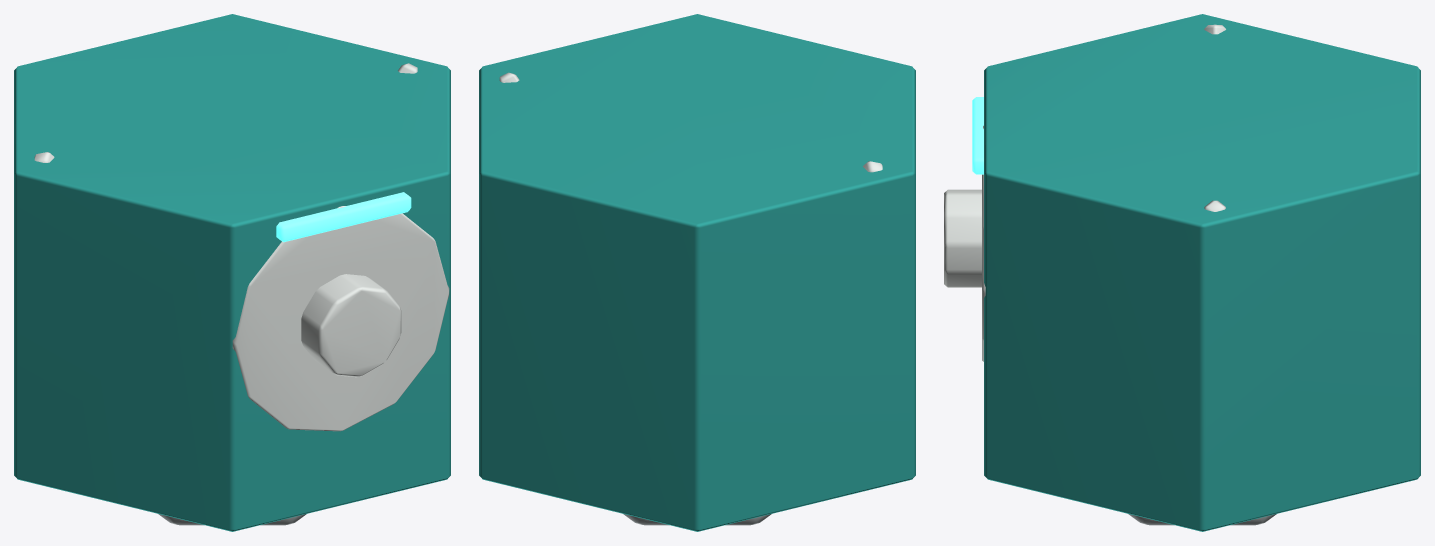
File: whirligig_core_quickstart.glb
3 renders of one model, left to right at view 1: azimuth 30°, elevation 25°; view 2: azimuth 150°, elevation 25°; view 3: azimuth 270°, elevation 25°, orthographic.
Visible parts, largest first — view 1: whirligig_core_quickstart; view 2: whirligig_core_quickstart; view 3: whirligig_core_quickstart.
Boxes of the visible parts, x1,y1,x2,y2 form: whirligig_core_quickstart: [14, 14, 450, 531]; whirligig_core_quickstart: [479, 14, 915, 531]; whirligig_core_quickstart: [944, 14, 1420, 531].
Bounding box in the file's own units: 0.794 × 0.6502 × 0.7564.
1 material, 1 textured.
